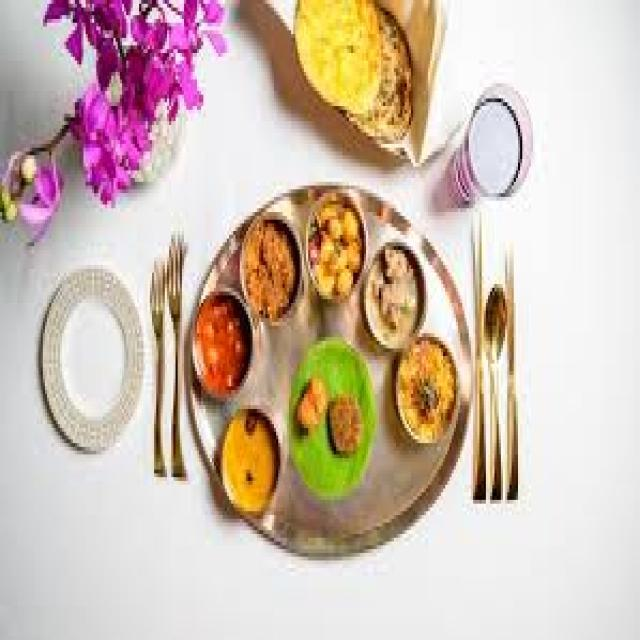curd: (35, 259, 153, 457)
dal: (289, 0, 396, 132)
pickle: (386, 340, 471, 450), (185, 295, 262, 405)
sweet: (360, 246, 439, 351), (235, 210, 307, 324), (190, 300, 263, 404)
veg-fry: (300, 190, 374, 304)
